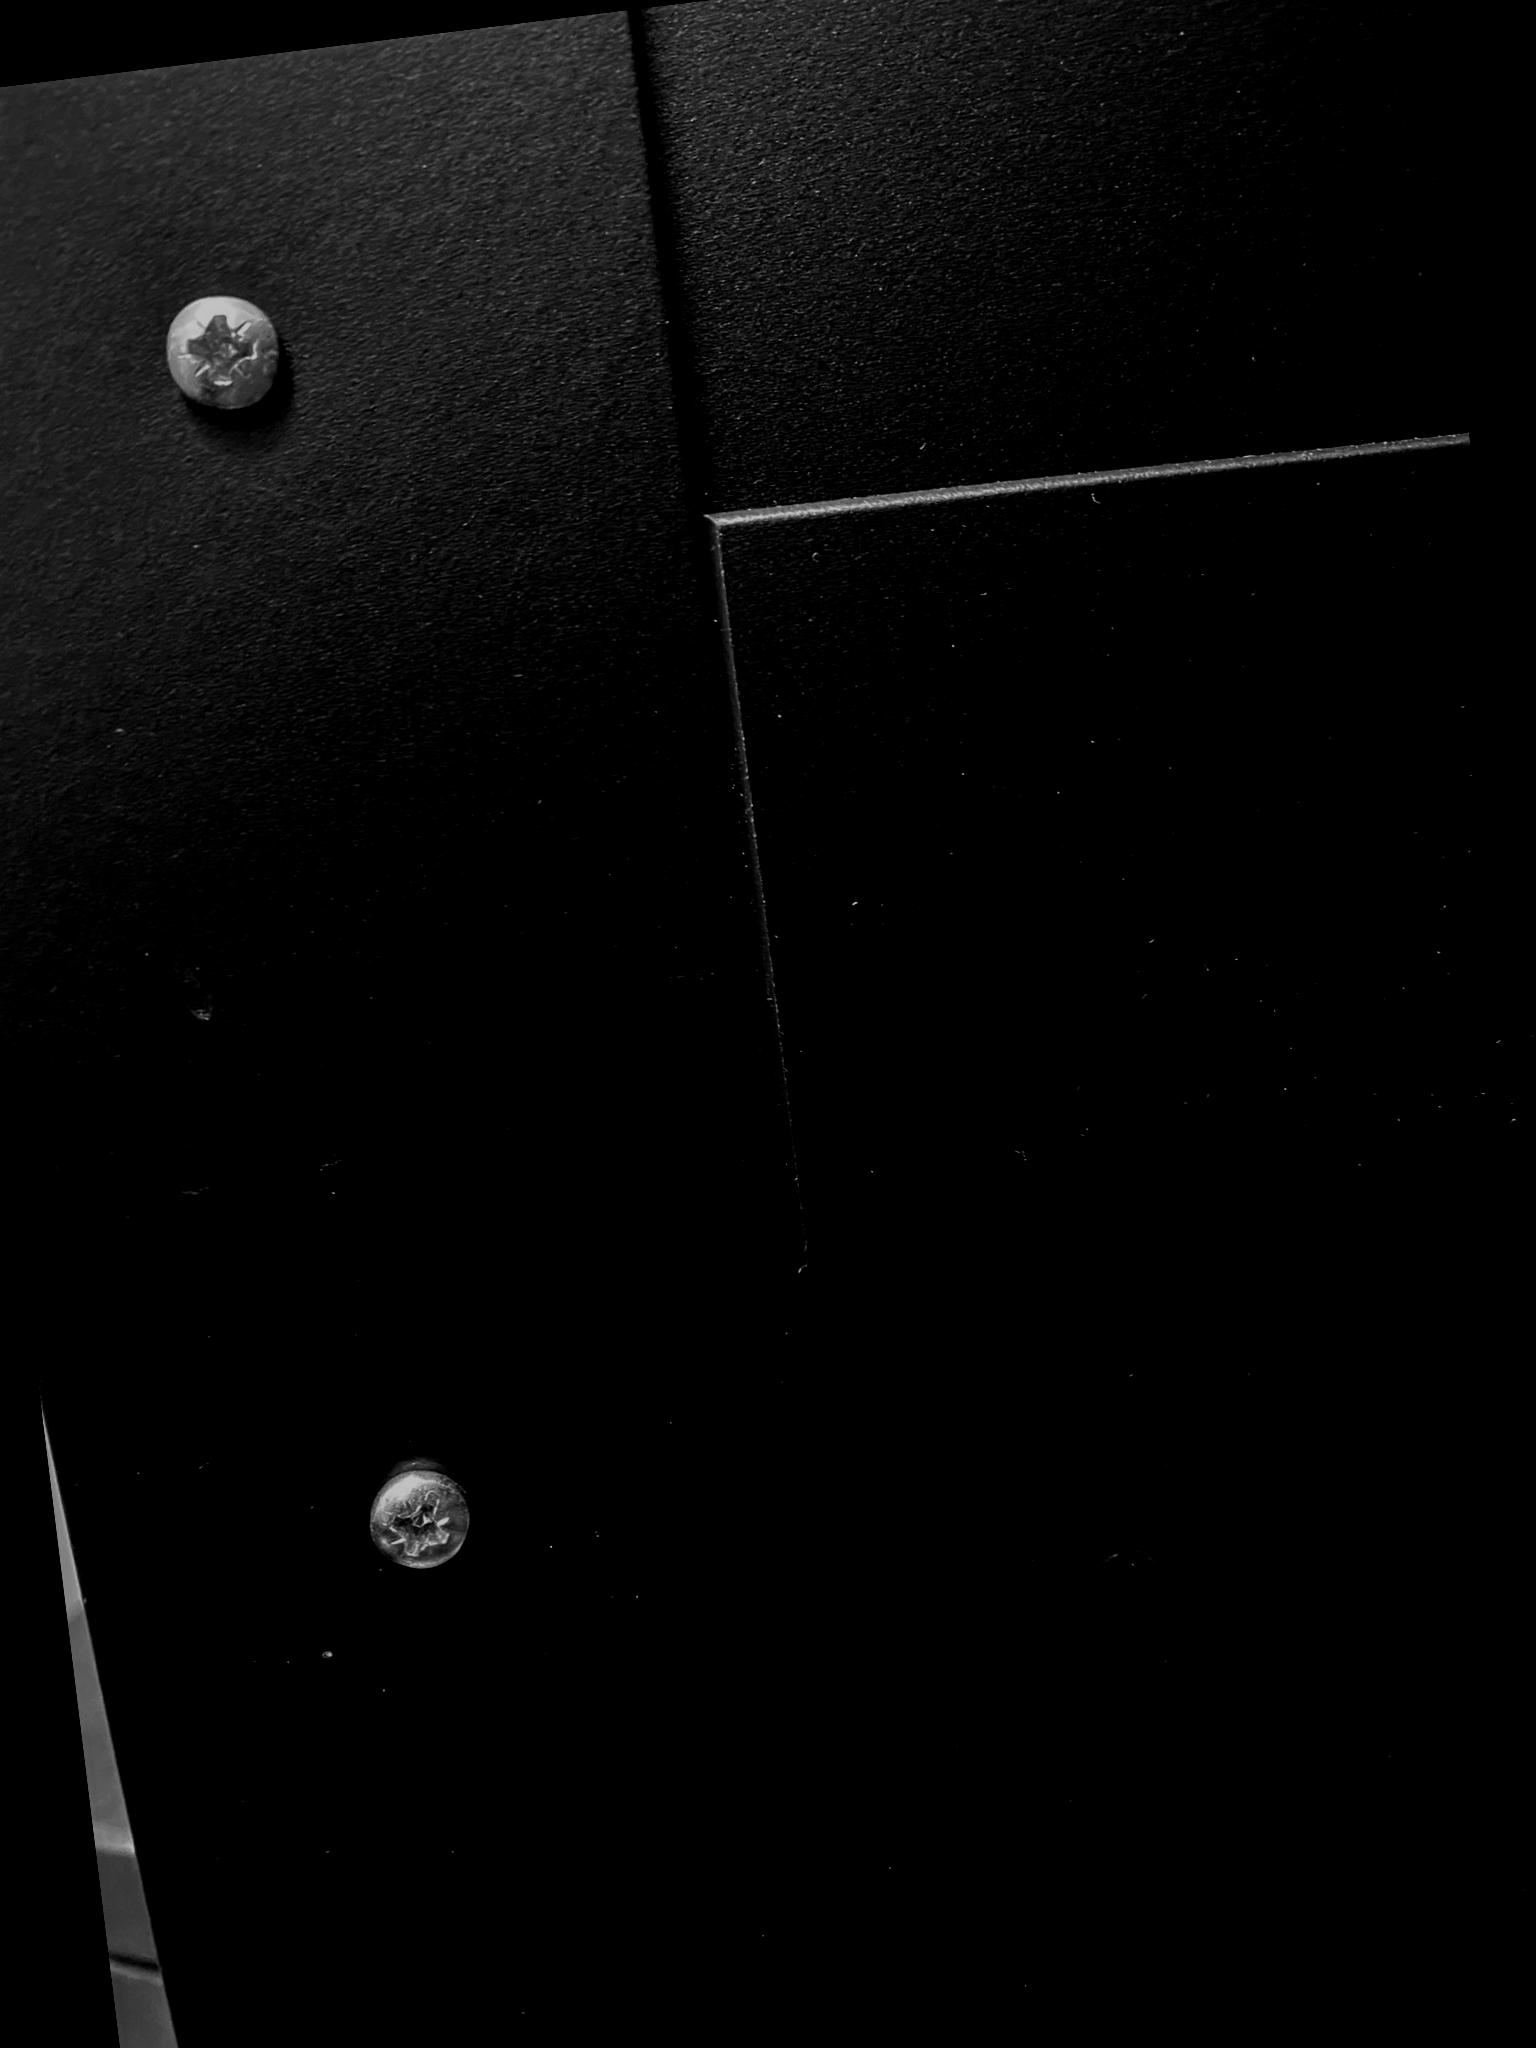philips-PZ: (160, 287, 289, 423), (360, 1466, 478, 1576)
